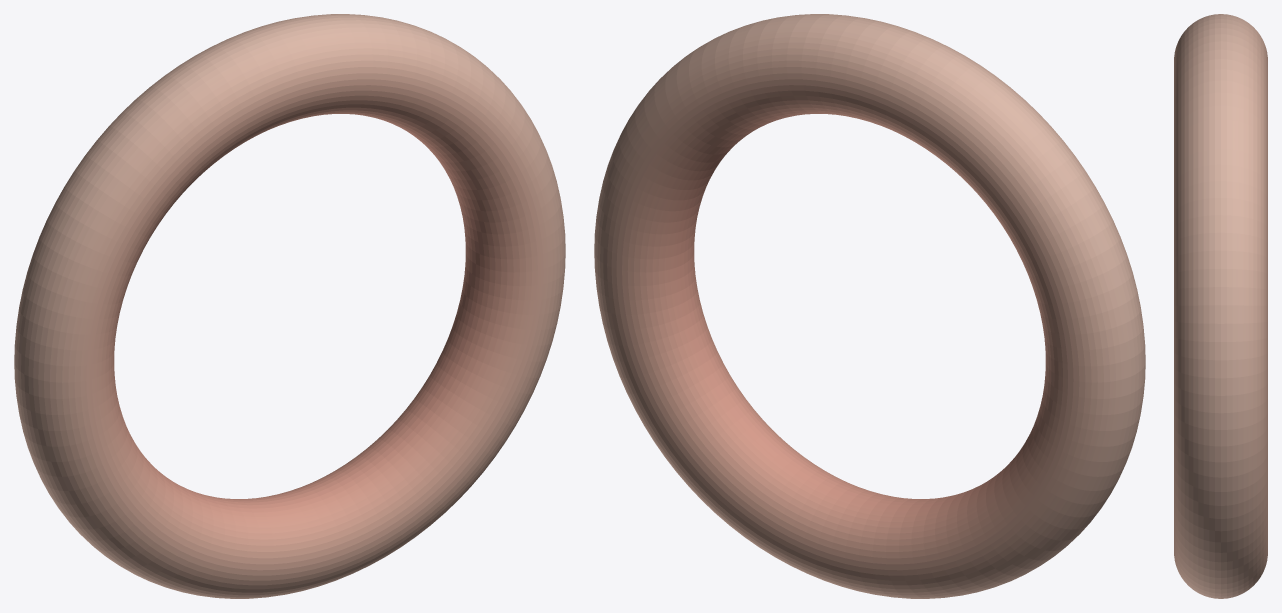
3 renders of one model, left to right at view 1: azimuth 30°, elevation 25°; view 2: azimuth 150°, elevation 25°; view 3: azimuth 270°, elevation 25°, orthographic. The views are drawn at different scales.
Visible parts, largest first — view 1: world; view 2: world; view 3: world.
Part boxes in pixels (x1,y1,x2,y2): world: (14, 14, 565, 598); world: (594, 14, 1145, 598); world: (1174, 14, 1267, 598).
Size of the model in its own units: 19.07 by 19.07 by 3.06.
